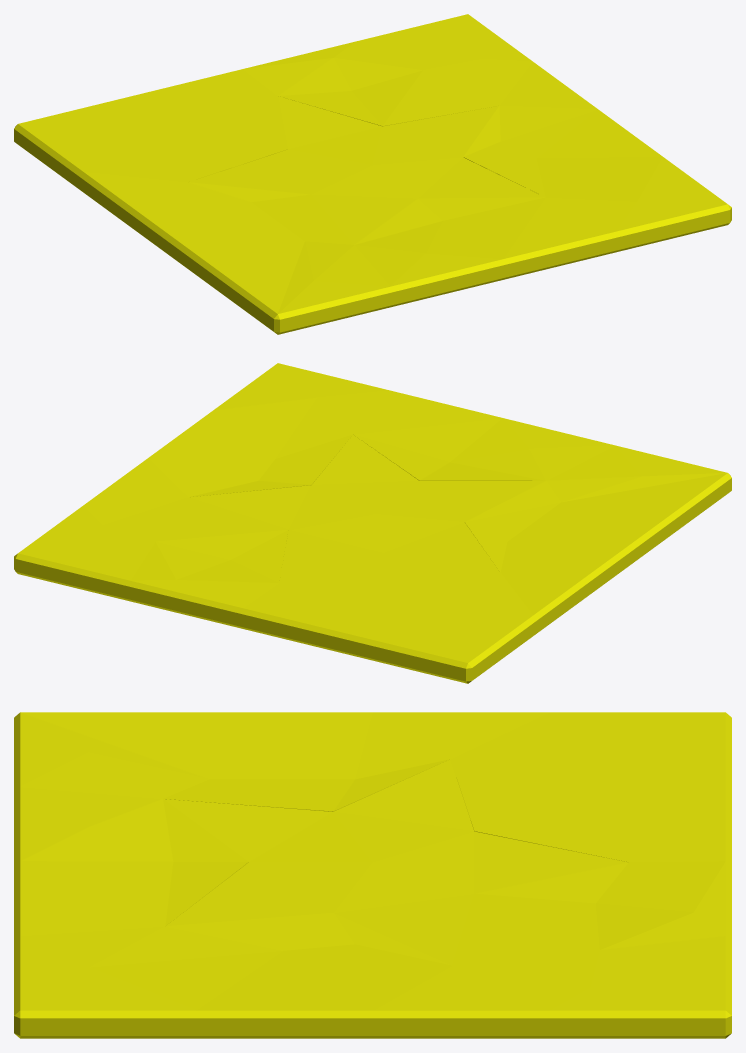
The picture shows the model from 3 angles, top to bottom: view 1: azimuth 30°, elevation 25°; view 2: azimuth 150°, elevation 25°; view 3: azimuth 270°, elevation 25°; orthographic projection. The views are drawn at different scales.
Visible parts, largest first — view 1: adasd_005, adasd_002, adasd_001, adasd_003, adasd_004; view 2: adasd_005, adasd_001, adasd_004, adasd_002, adasd_003; view 3: adasd_005, adasd_001, adasd_003, adasd_002, adasd_004.
Boxes of the visible parts, box(x1,y1,x2,y2) form: adasd_005: box(354, 109, 731, 307); adasd_002: box(79, 171, 392, 334); adasd_001: box(243, 14, 597, 156); adasd_003: box(189, 96, 544, 244); adasd_004: box(14, 69, 287, 188); adasd_005: box(148, 363, 614, 484); adasd_001: box(14, 458, 311, 628); adasd_004: box(240, 553, 536, 683); adasd_002: box(465, 445, 731, 632); adasd_003: box(189, 435, 545, 582); adasd_005: box(14, 787, 372, 1038); adasd_001: box(334, 861, 731, 1038); adasd_003: box(163, 759, 627, 965); adasd_002: box(14, 712, 548, 811); adasd_004: box(450, 712, 731, 866).
Size of the model in its own units: 1.42 by 0.0652 by 1.42.
Materials: 1 (1 with a texture image).
